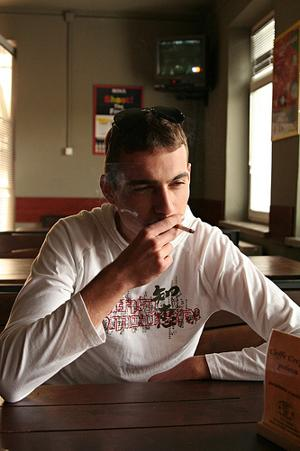person: (1, 108, 300, 409)
